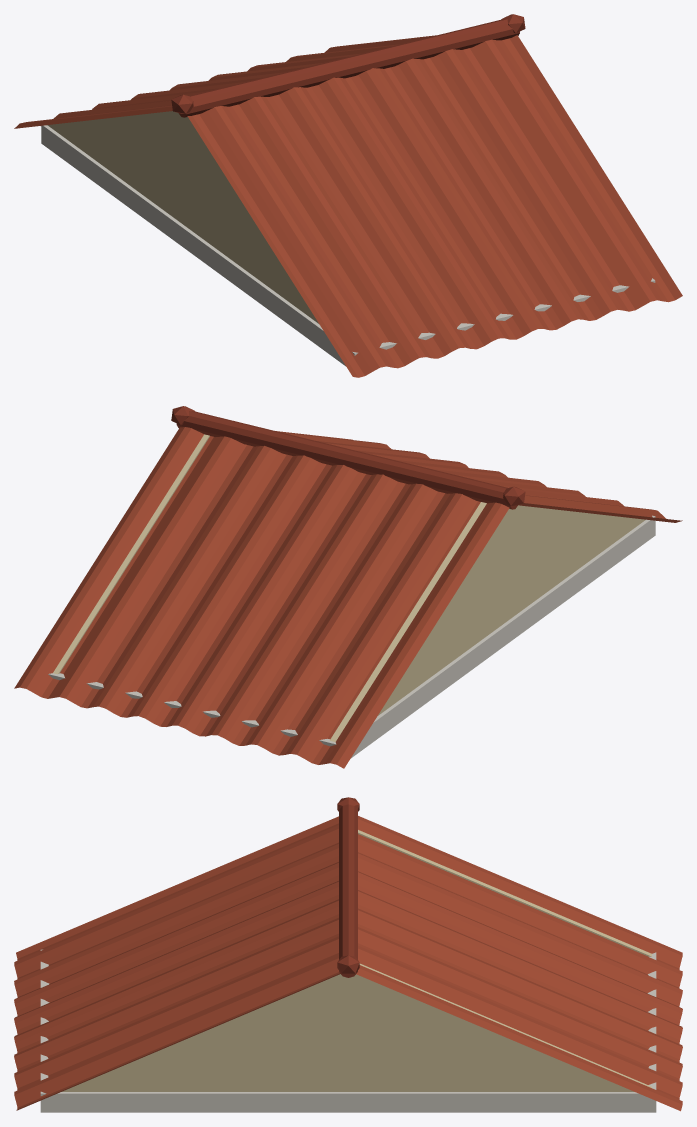
Rendered from mai_ngoi_40.glb.
3 views of the same model, one above another, from view 1: azimuth 30°, elevation 25°; view 2: azimuth 150°, elevation 25°; view 3: azimuth 270°, elevation 25° (orthographic).
Visible parts, largest first — view 1: mai_ngoi_40; view 2: mai_ngoi_40; view 3: mai_ngoi_40.
Boxes of the visible parts, x1,y1,x2,y2 form: mai_ngoi_40: (14,14,682,377); mai_ngoi_40: (14,406,682,768); mai_ngoi_40: (14,797,682,1112).
Bounding box in the file's own units: 4.79 × 2.18 × 8.04.
